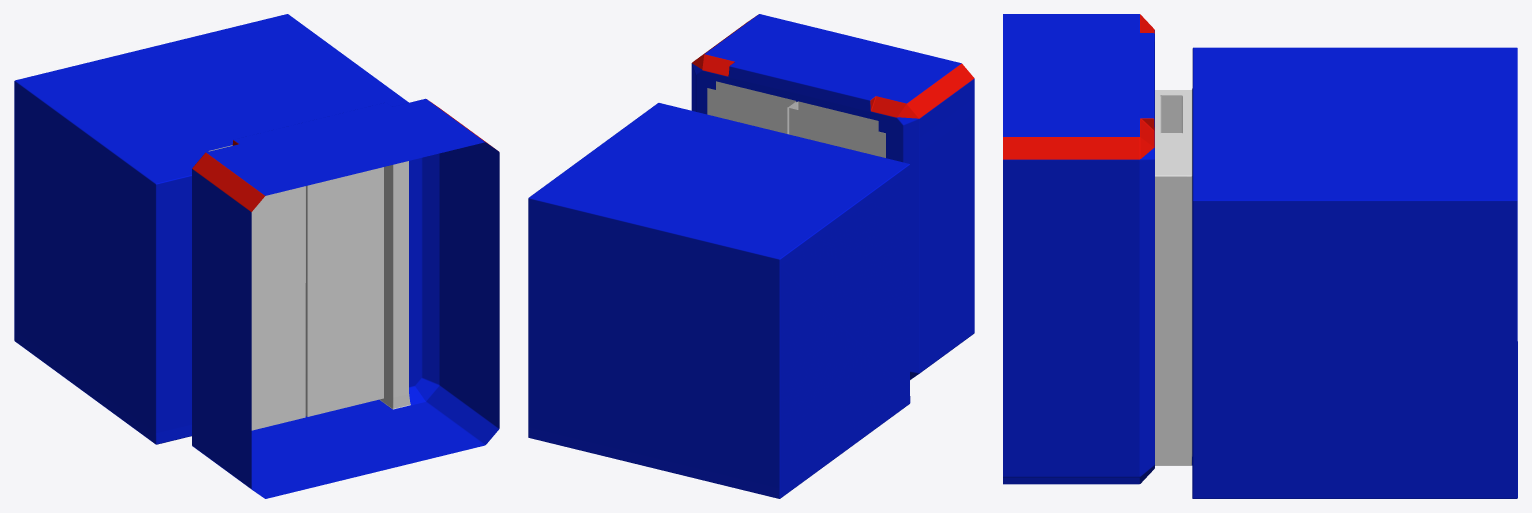
File: Elevator.fbx
3 renders of one model, left to right at view 1: azimuth 30°, elevation 25°; view 2: azimuth 150°, elevation 25°; view 3: azimuth 270°, elevation 25°, orthographic. The views are drawn at different scales.
Parts seen in each view (by area): view 1: Elevator, ElevatorDoorR, ElevatorDoorL; view 2: Elevator, ElevatorDoorL, ElevatorDoorR; view 3: Elevator, ElevatorDoorR.
Part boxes in pixels (bbox=[...]): Elevator: bbox=[14, 14, 499, 498]; ElevatorDoorR: bbox=[305, 167, 383, 416]; ElevatorDoorL: bbox=[208, 145, 305, 430]; Elevator: bbox=[528, 14, 974, 498]; ElevatorDoorL: bbox=[789, 101, 878, 156]; ElevatorDoorR: bbox=[707, 81, 796, 134]; Elevator: bbox=[1003, 14, 1517, 498]; ElevatorDoorR: bbox=[1160, 96, 1182, 132].
Bounding box in the file's own units: 223 × 235 × 316.
